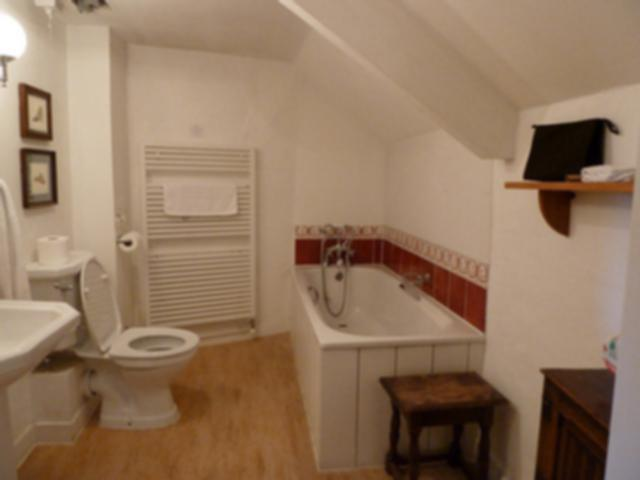Lavamanos: (0, 288, 79, 398)
Sanitario: (29, 243, 210, 438)
